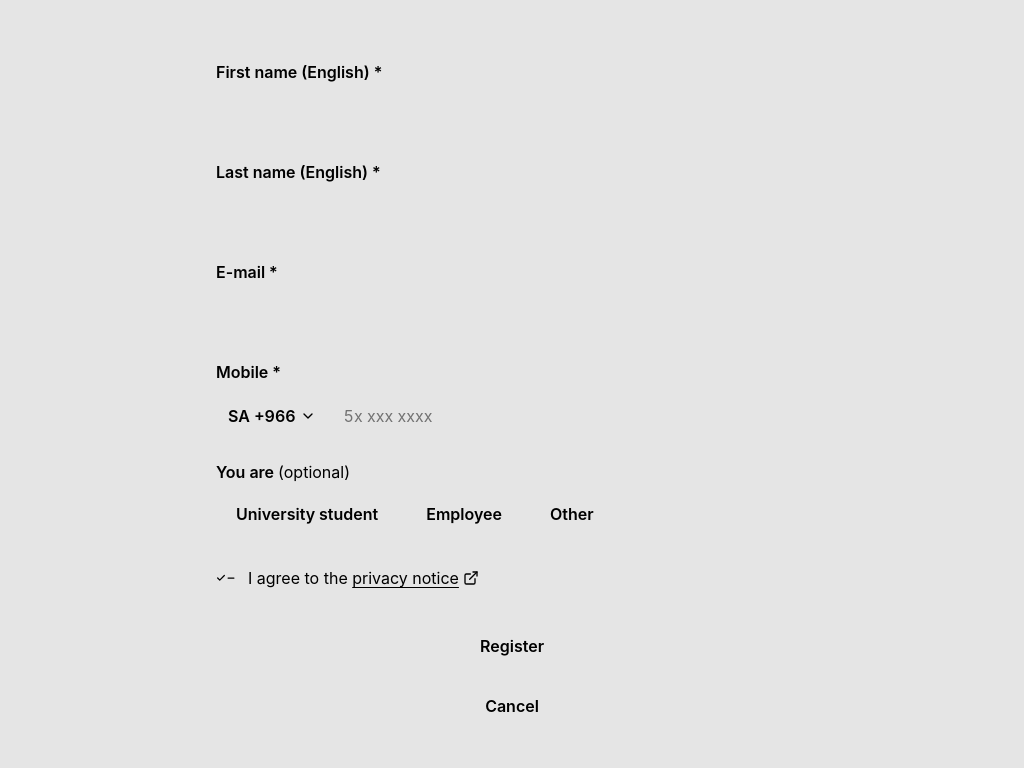
registration dialog: student or employee › is optional and shows the matching field only after a choice
(page scrolled)
Expected: the field labelled "Employer" is not shown
Click the button "University student": x=307, y=514 x1=216 y1=492 x2=398 y2=536
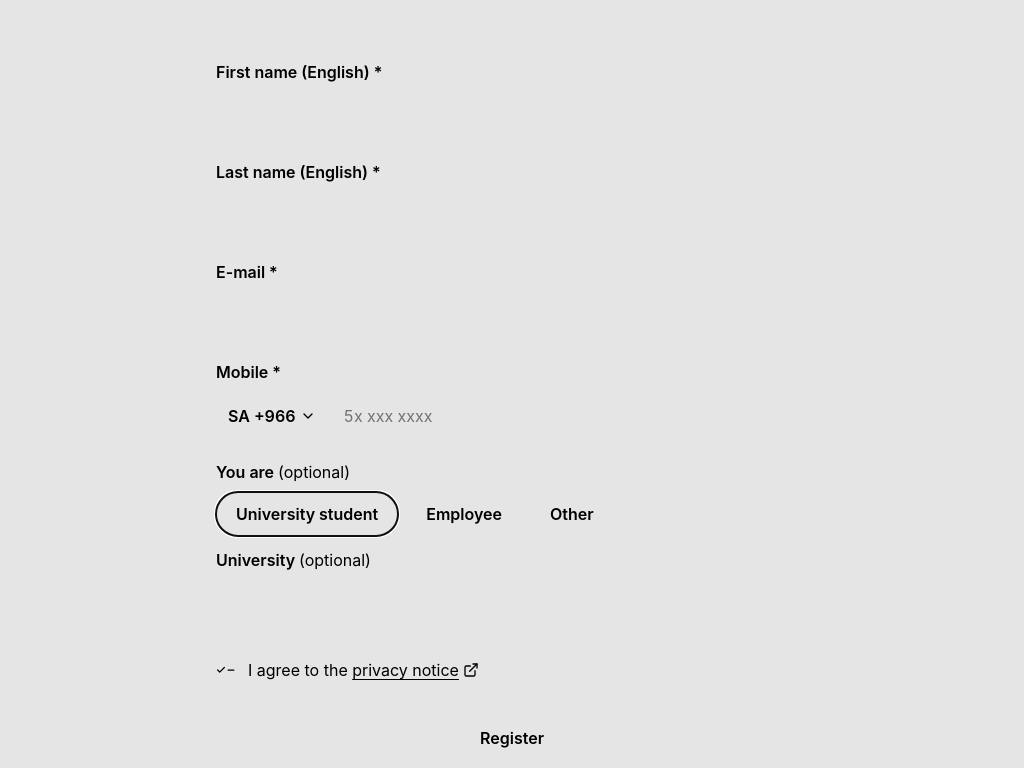
Result: the button "University student" is pressed at x1=216 y1=492 x2=398 y2=536
Click the button "Employee": x=464, y=514 x1=406 y1=492 x2=522 y2=536
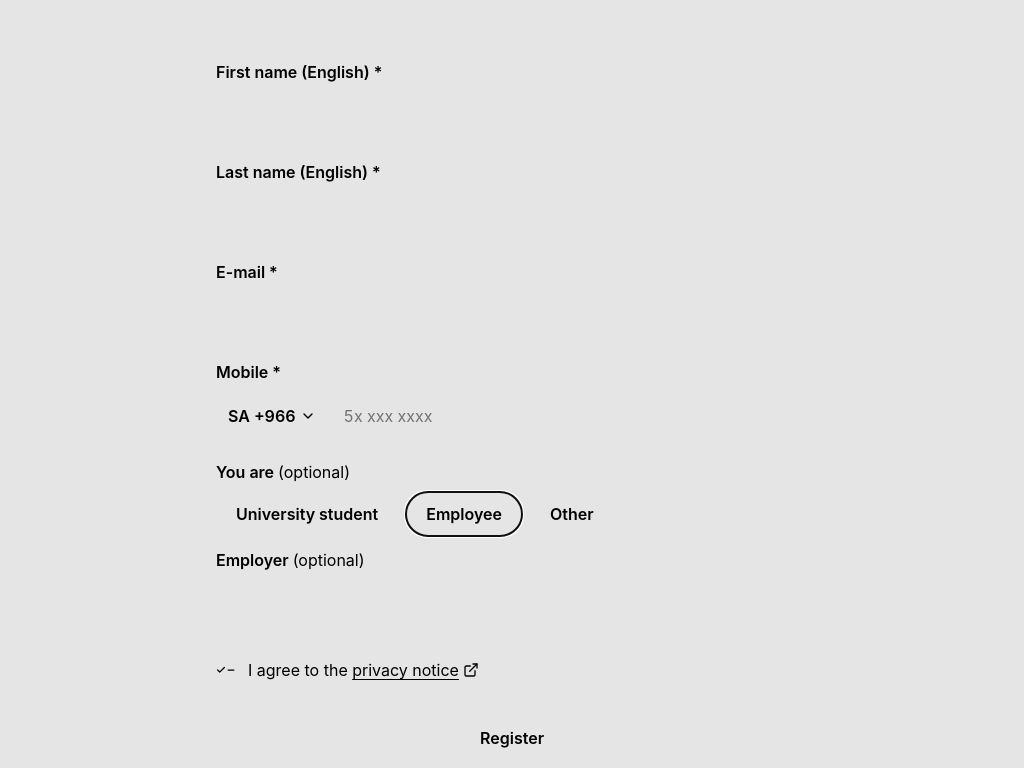
Click the button "Other": x=572, y=514 x1=530 y1=492 x2=614 y2=536
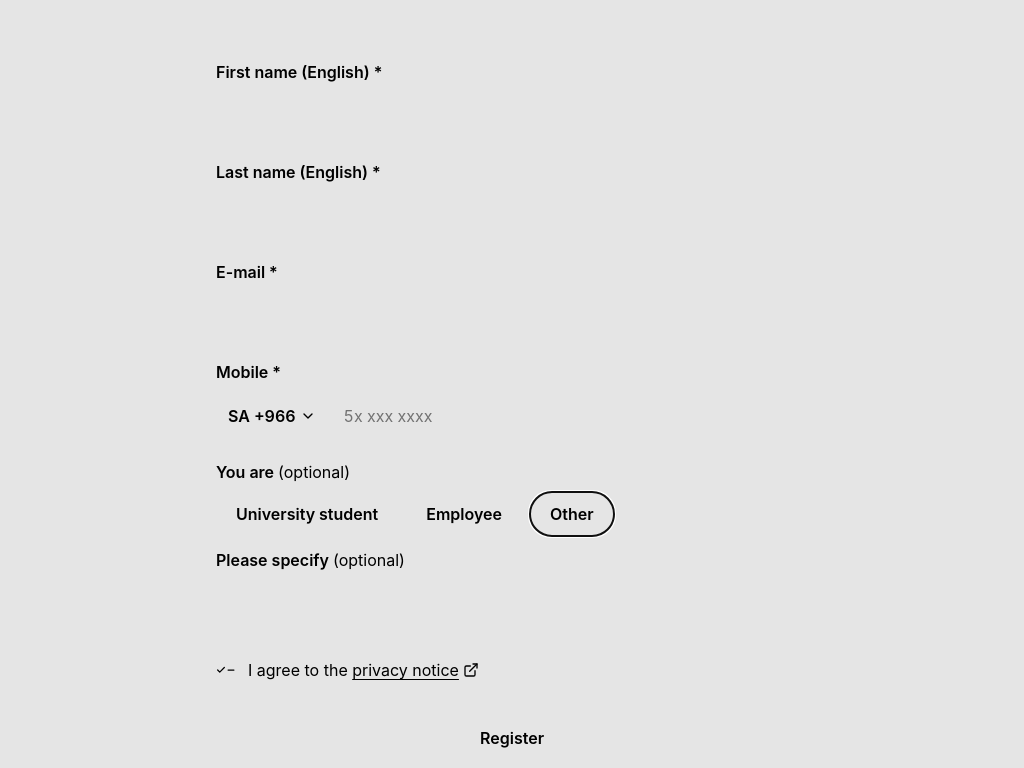
Result: the label labelled "Employer" is gone
Click the button "Other": x=572, y=514 x1=530 y1=492 x2=614 y2=536
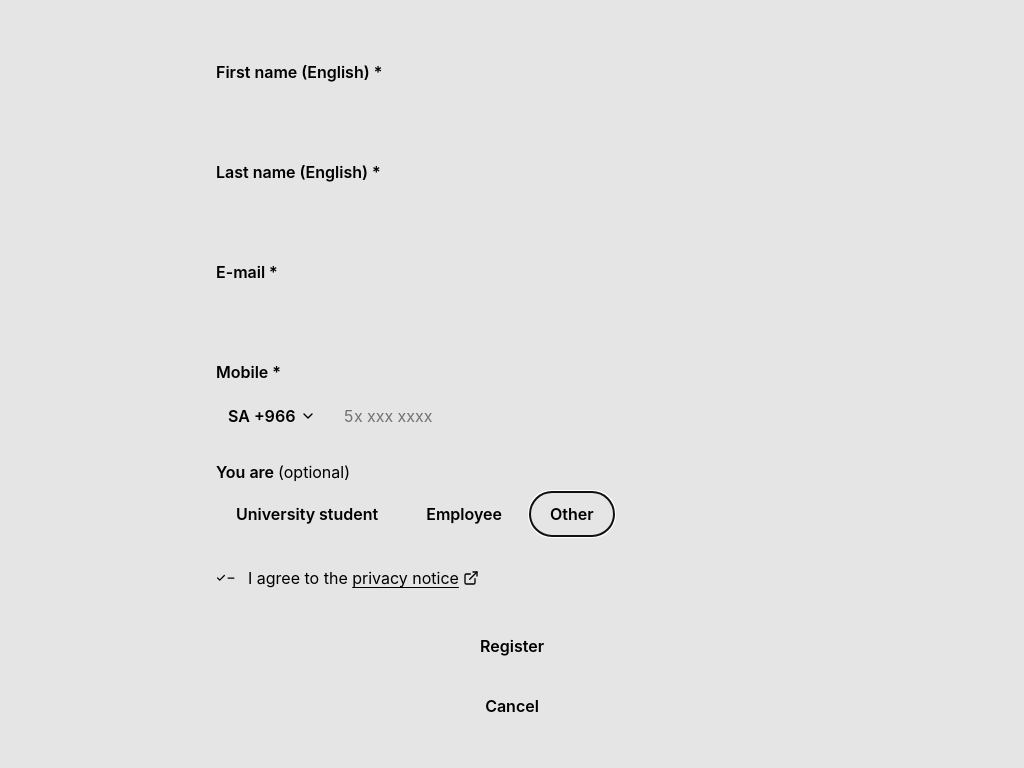
Result: the label labelled "Please specify" is gone
